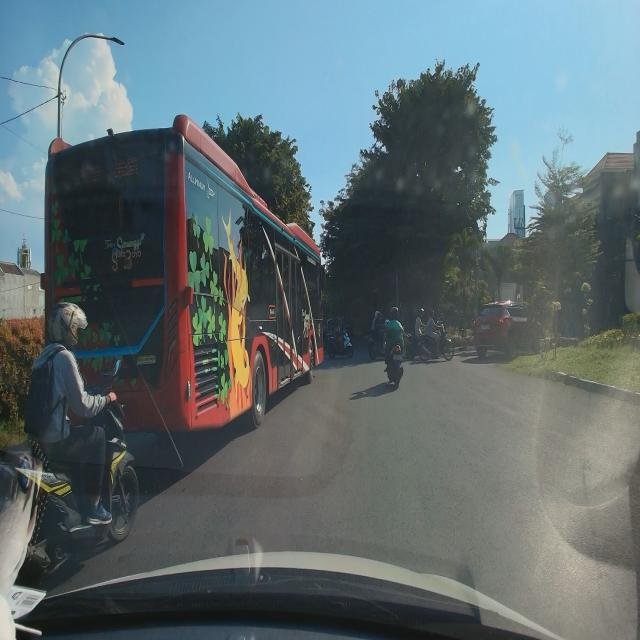bus: (43, 113, 324, 431)
car: (474, 299, 544, 357)
license-plate: (481, 323, 490, 330)
